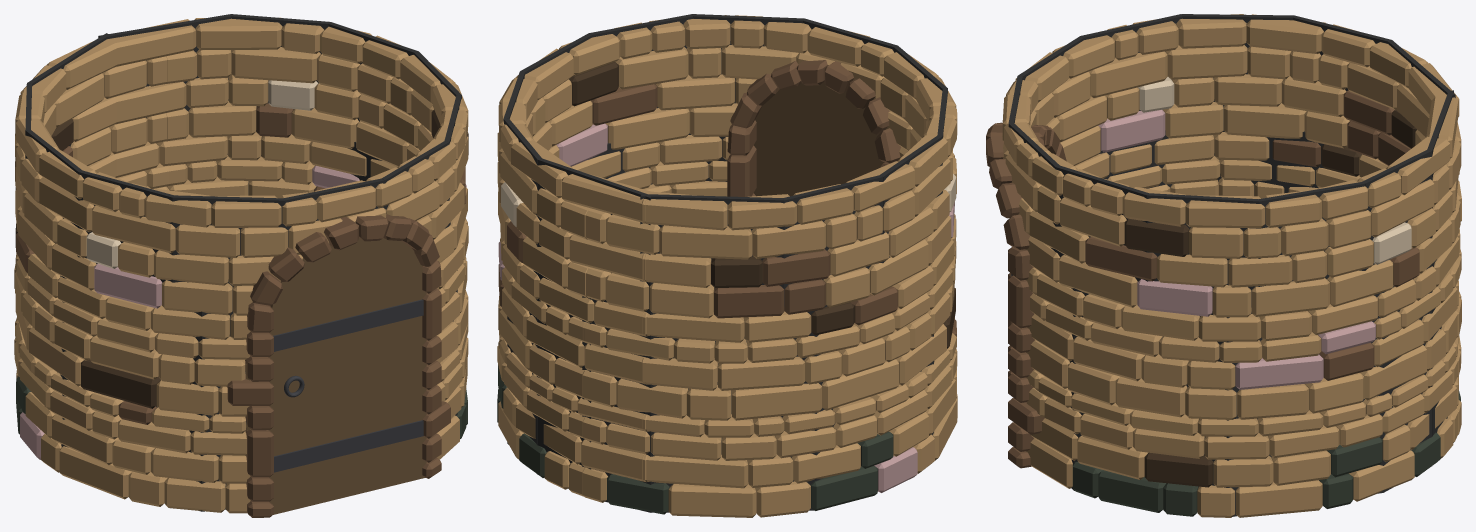
The model's file is tower-base-with-door-opt.glb.
3 views of the same model, side by side, from view 1: azimuth 30°, elevation 25°; view 2: azimuth 150°, elevation 25°; view 3: azimuth 270°, elevation 25° (orthographic).
Bounding box in the file's own units: 2 × 1.51 × 2.06.
